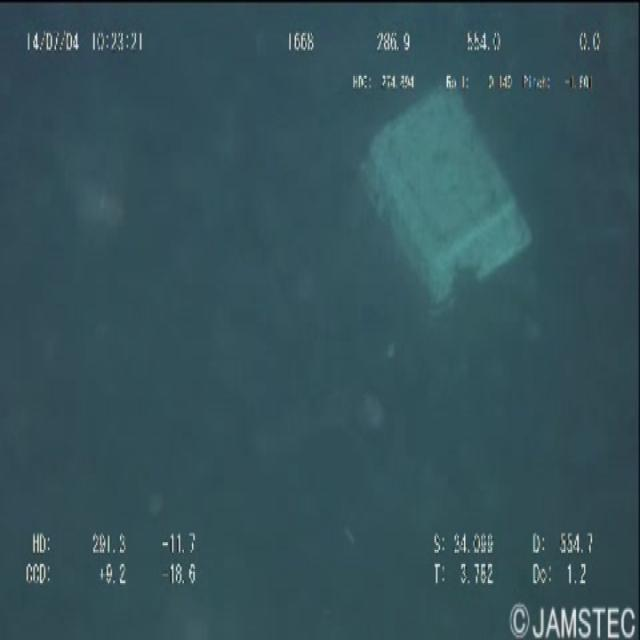Cutlery: (357, 71, 541, 323)
